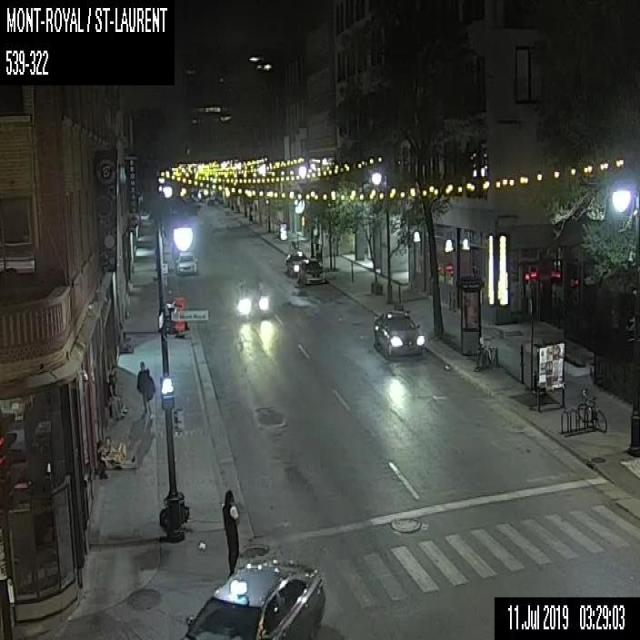construction: (175, 295, 184, 338)
pedestrian: (92, 433, 138, 477), (221, 490, 240, 578), (105, 363, 131, 421), (144, 366, 154, 426), (135, 360, 145, 415), (116, 318, 131, 351)
vehicle: (181, 556, 325, 639), (371, 307, 424, 353), (228, 274, 271, 318), (299, 256, 326, 286), (284, 248, 304, 280), (176, 250, 197, 274)
